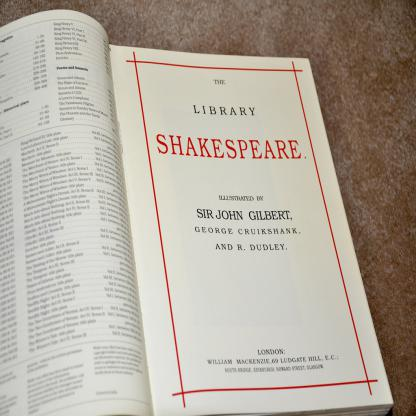book: (18, 15, 377, 416)
